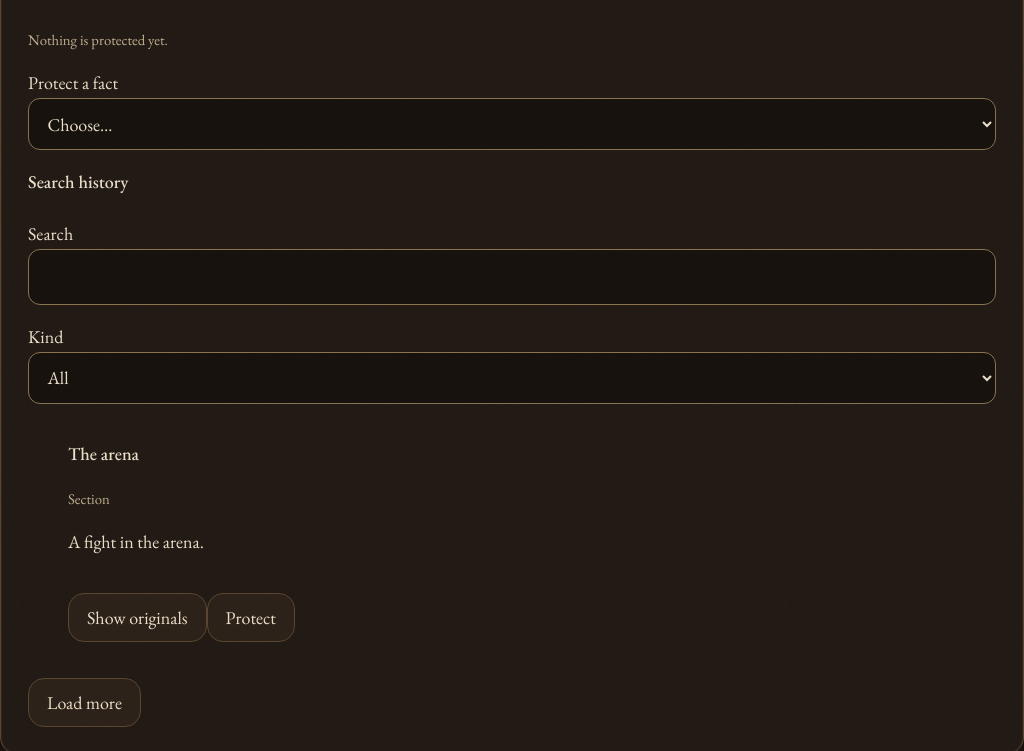
Test: searches through the server and pages with the opaque cursor
(page scrolled)
expect the text "The arena" is shown: met, box [68, 442, 139, 465]
Click the button "Load more" at (84,702), box [28, 678, 141, 727]
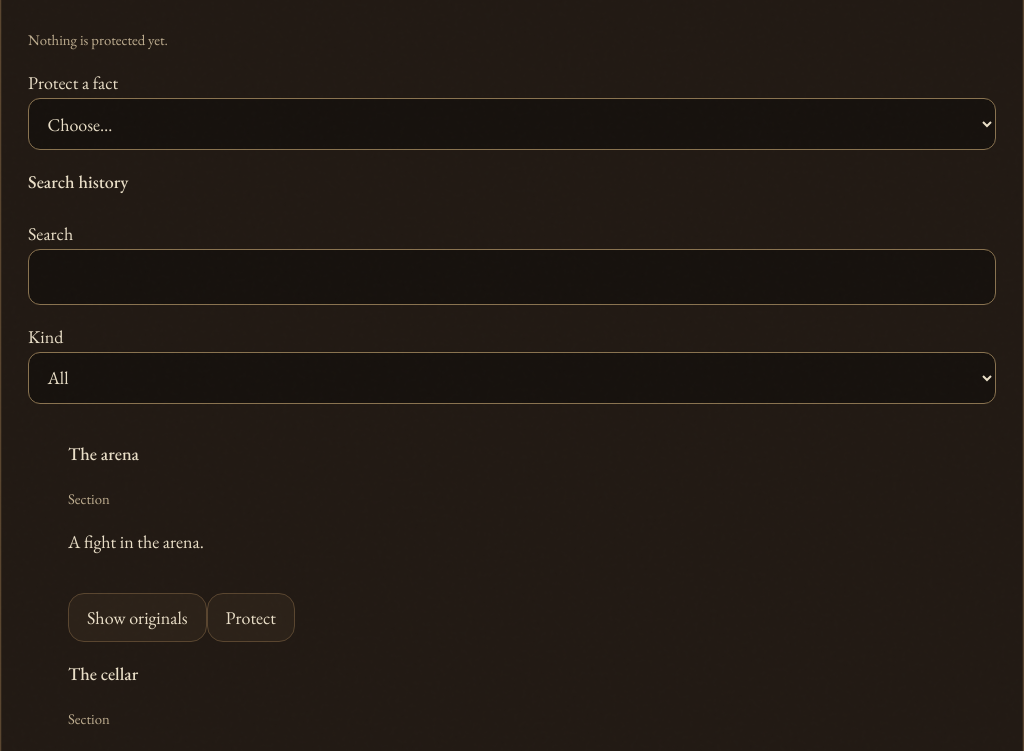
expect the text "The arena" is shown: met, box [68, 442, 139, 465]
expect the text "The cellar" is shown: met, box [68, 662, 138, 685]
Type "arena" into the field labelled "Search" at (512,277), box [28, 249, 996, 305]
(page scrolled)
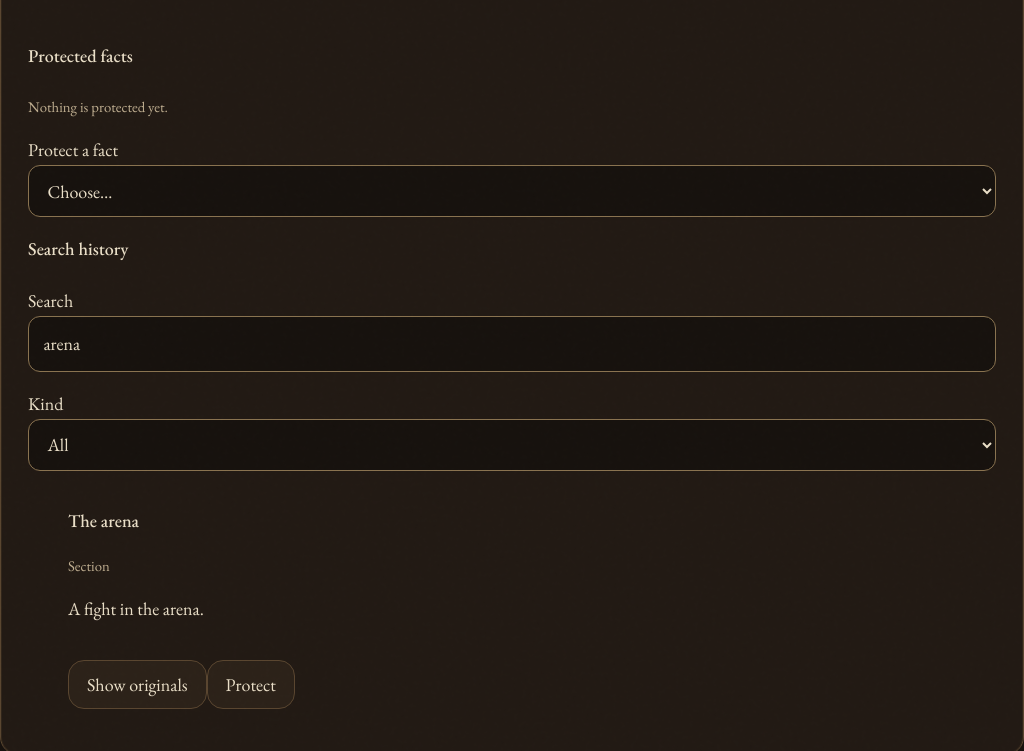
expect the text "The cellar" is gone: met
